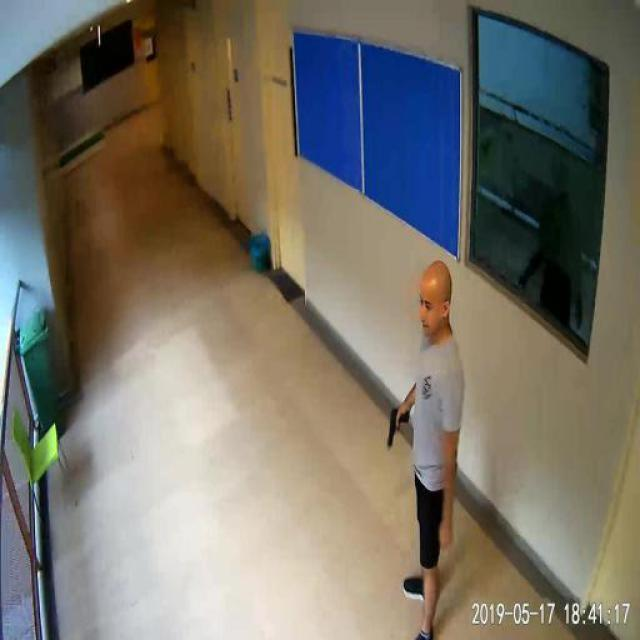weapon: (386, 405, 411, 449)
